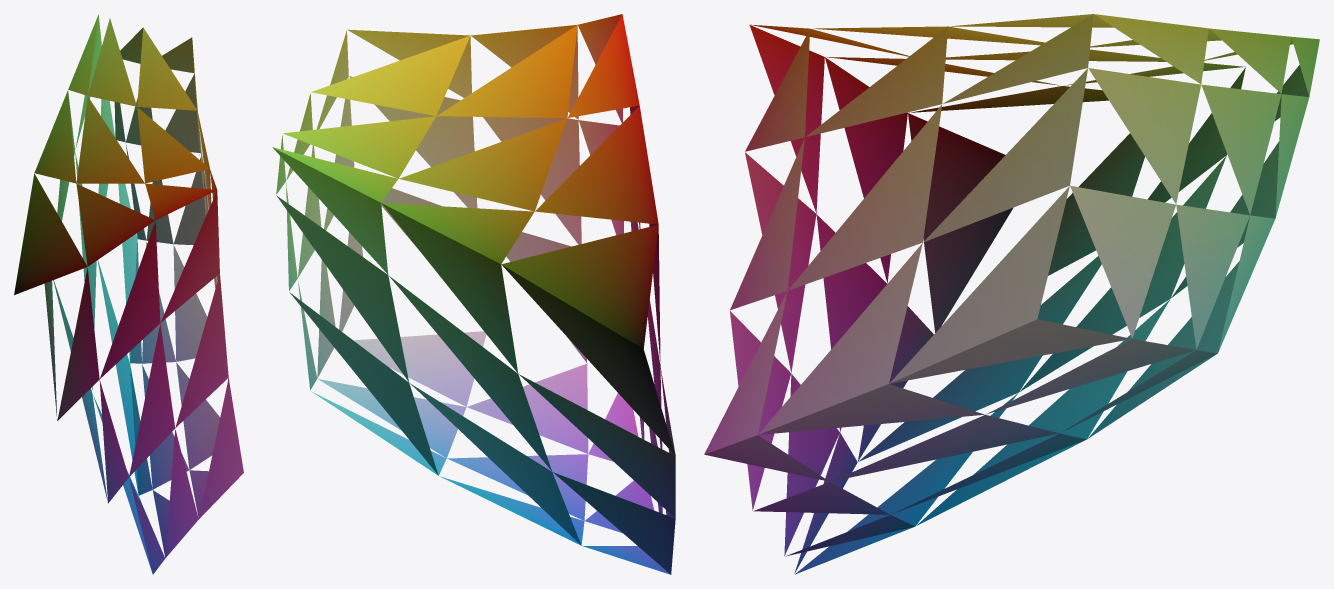
The model's file is sRGB_in_abL_small_output(1).glb.
The picture shows the model from 3 angles, left to right: view 1: azimuth 30°, elevation 25°; view 2: azimuth 150°, elevation 25°; view 3: azimuth 270°, elevation 25°; orthographic projection. The views are drawn at different scales.
Parts seen in each view (by area): view 1: world; view 2: world; view 3: world.
Boxes of the visible parts, left/top/right/bottom form: world: left=14, top=14, right=243, bottom=574; world: left=272, top=14, right=675, bottom=574; world: left=704, top=14, right=1319, bottom=574.
Bounding box in the file's own units: 100 × 205 × 173.
